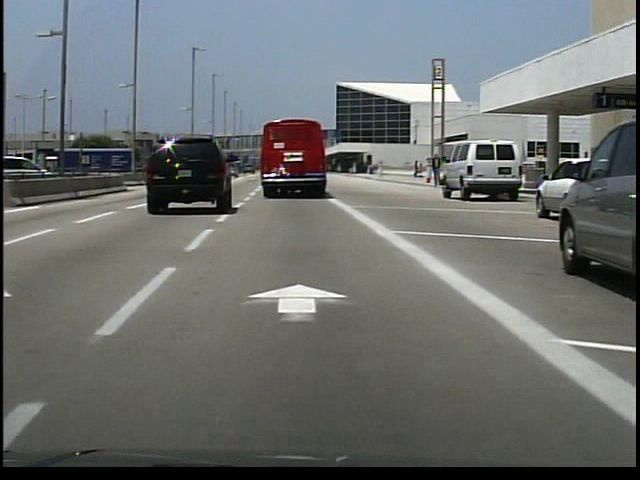person: (430, 155, 443, 192)
